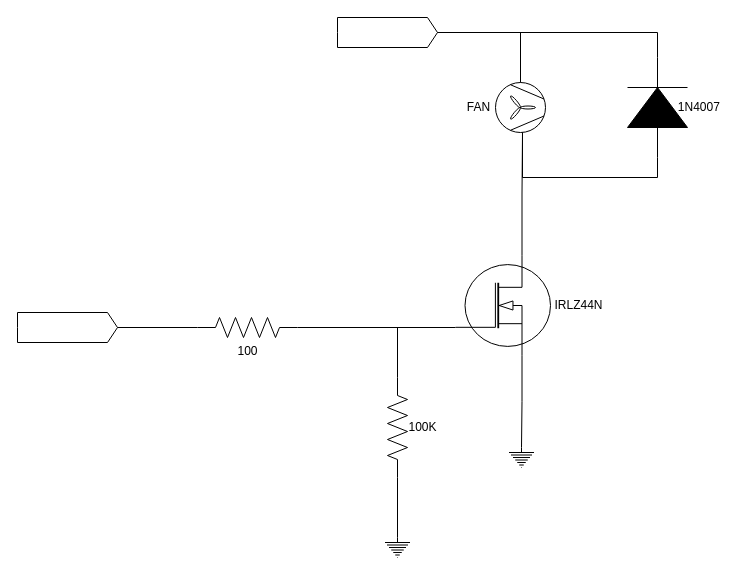
Image size: 740x575. Some labels were removed from this diagram. Each missing label, with the centre of its shape:
"5V" goes at (x=387, y=32).
"GPIO4" goes at (x=67, y=327).
